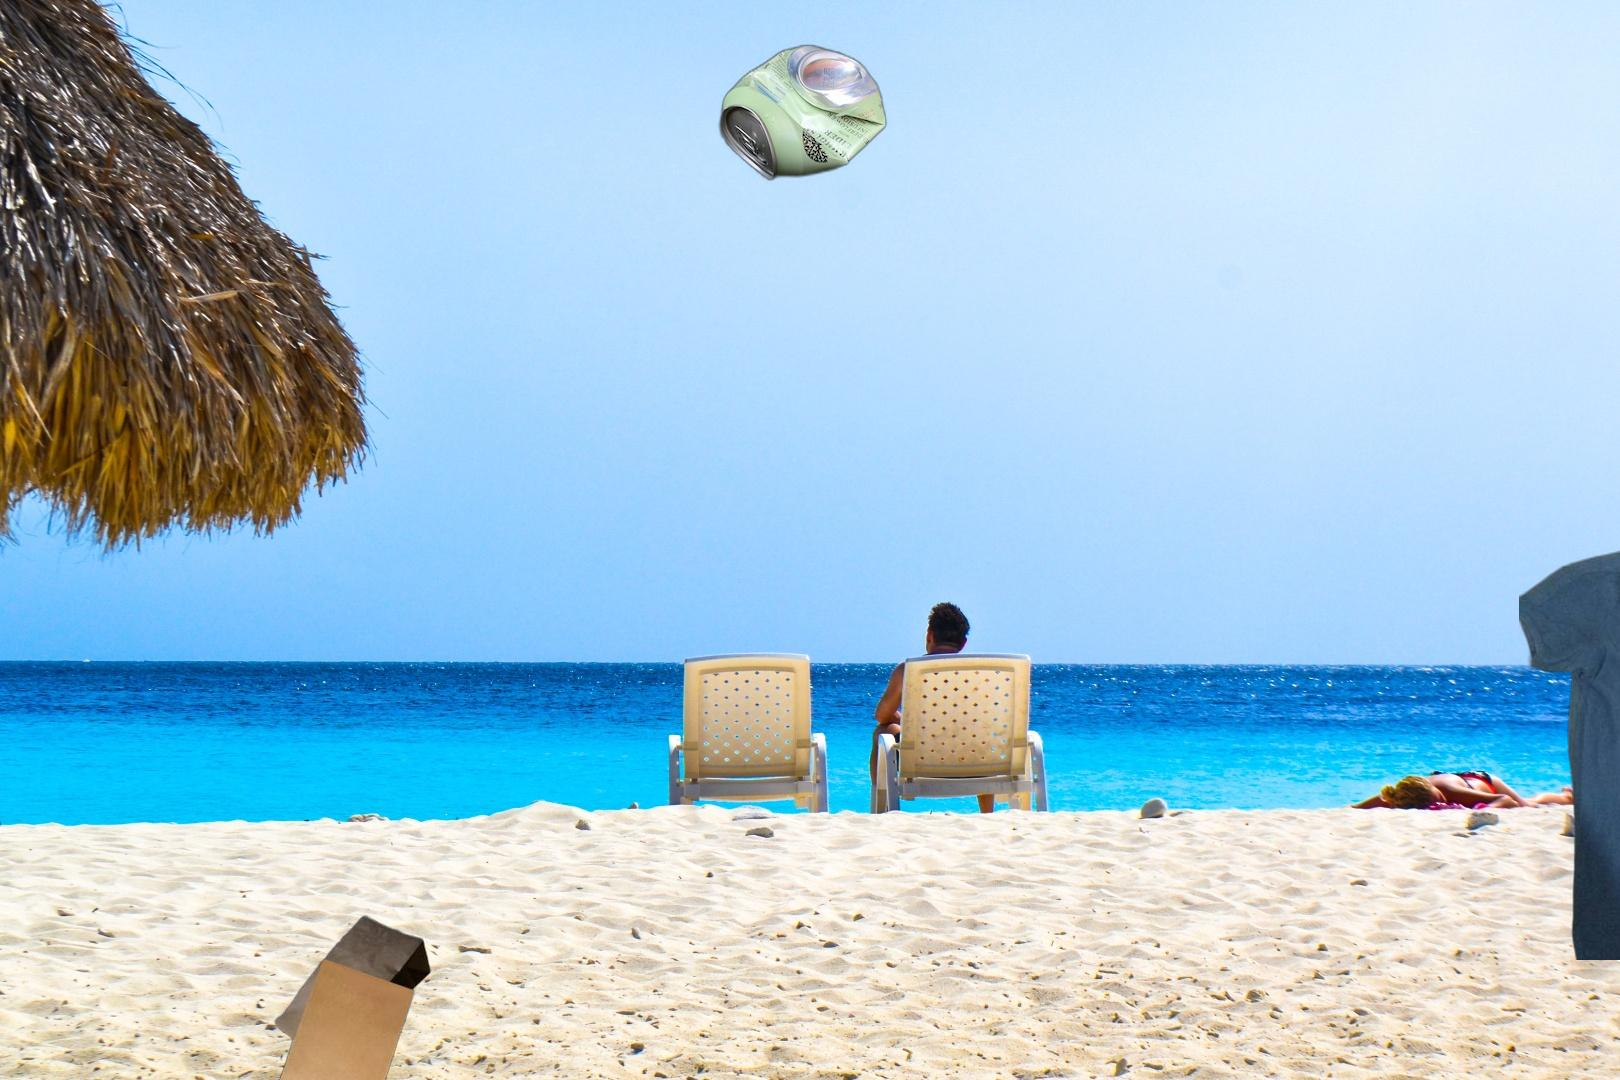clothes: (1519, 513, 1620, 959)
metal-cans: (647, 39, 891, 547)
paper-bag: (268, 912, 433, 1080)
